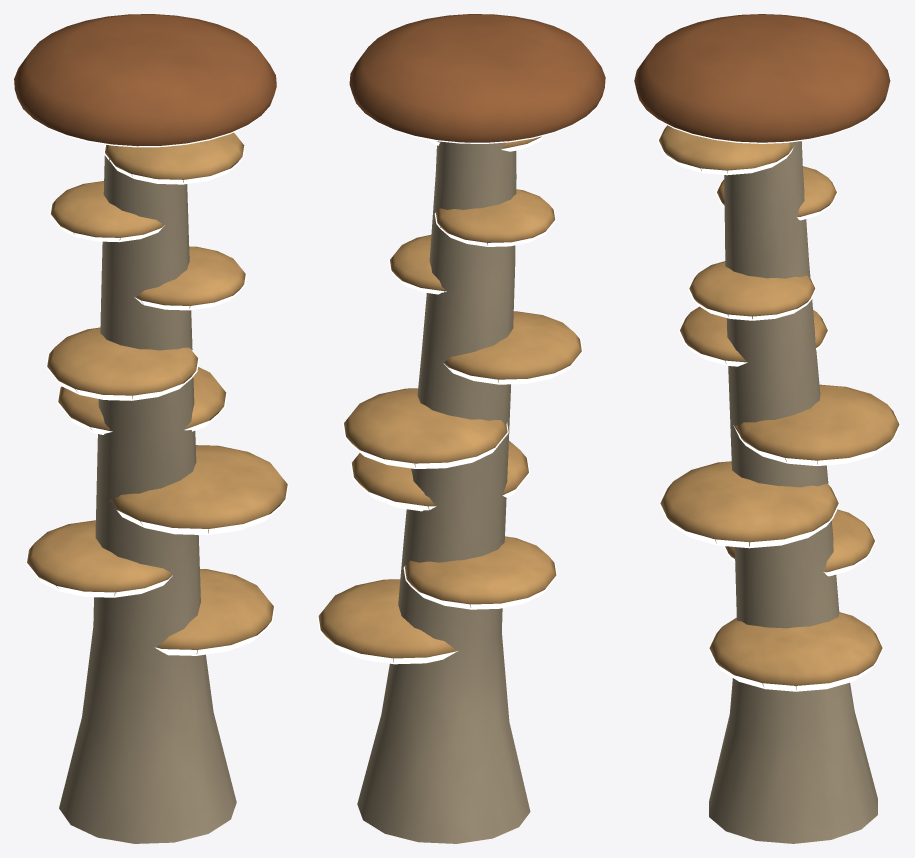
The model's file is houba_chorose.glb.
The picture shows the model from 3 angles, left to right: view 1: azimuth 30°, elevation 25°; view 2: azimuth 150°, elevation 25°; view 3: azimuth 270°, elevation 25°; orthographic projection. The views are drawn at different scales.
Visible parts, largest first — view 1: houba_kmen, noc; view 2: houba_kmen, noc; view 3: houba_kmen, noc.
Part boxes in pixels (x1,y1,x2,y2): houba_kmen: (14, 14, 287, 843); noc: (17, 96, 288, 655); houba_kmen: (318, 14, 605, 843); noc: (317, 94, 601, 664); houba_kmen: (634, 14, 899, 843); noc: (639, 100, 900, 691).
Bounding box in the file's own units: 2.84 × 8.49 × 2.7.
2 materials, 1 textured.
